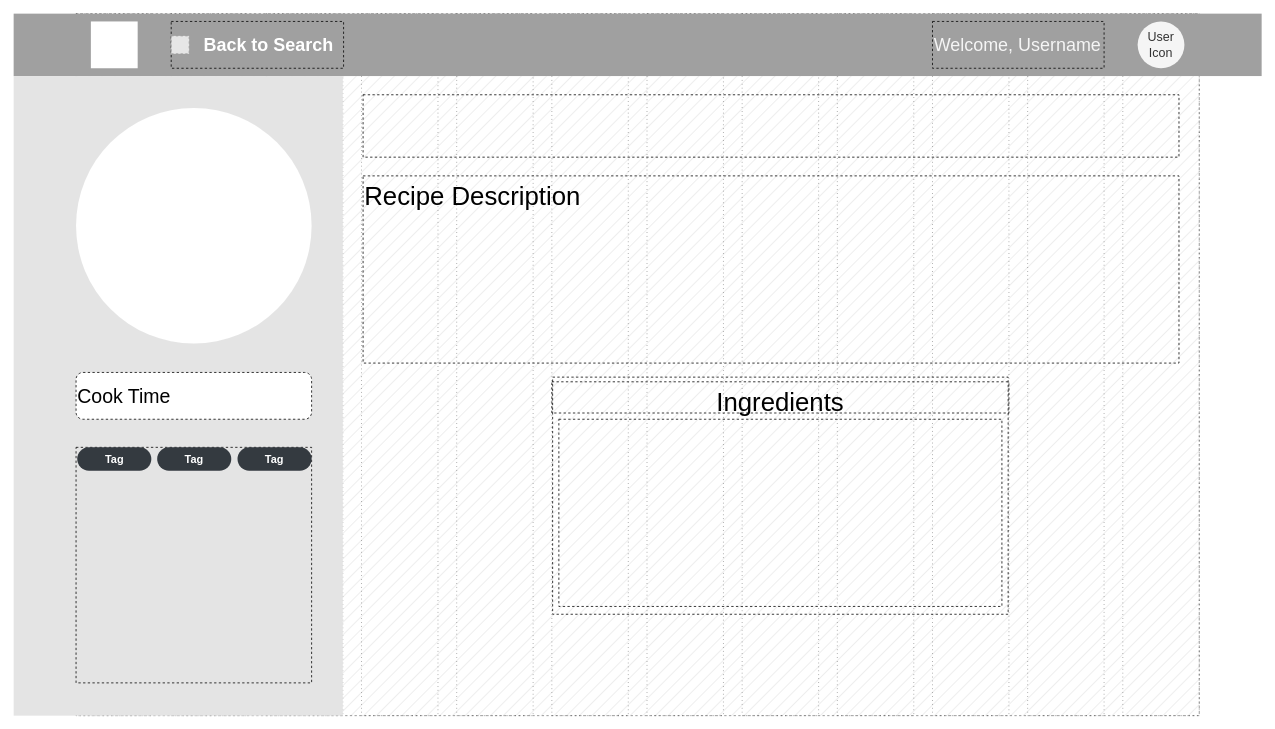
Some shapes in this 1275 by 729 pixel diagram are drawn without their labels. Grey dashed boxes stand in for pictures. The centre of each missing label's shape, as x and y in pixels:
- Ingredient - Ingredient ...: the point at 780,512
Icon: the point at 113,44
Recipe Image: the point at 193,225
Recipe Title: the point at 770,125
